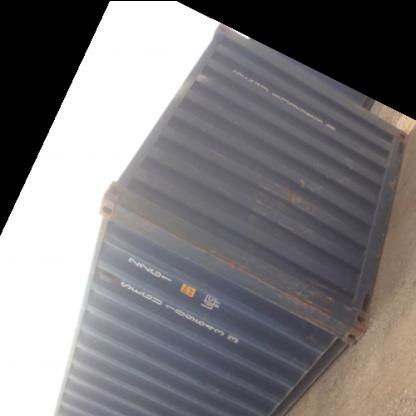Damage: (215, 252, 335, 328), (113, 200, 188, 249), (273, 173, 321, 221)
